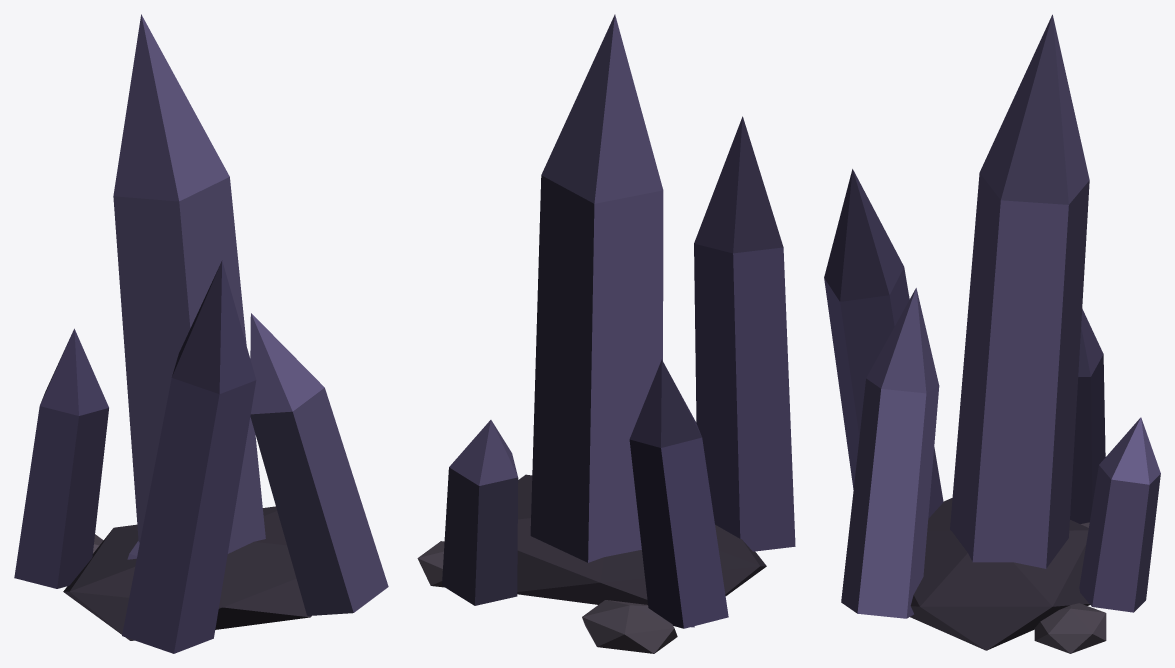
File: Decor_DragonLair_Spires.fbx
3 views of the same model, side by side, from view 1: azimuth 30°, elevation 25°; view 2: azimuth 150°, elevation 25°; view 3: azimuth 270°, elevation 25° (orthographic). The views are drawn at different scales.
Visible parts, largest first — view 1: Spires_Body; view 2: Spires_Body; view 3: Spires_Body.
Boxes of the visible parts, box(x1,y1,x2,y2) form: Spires_Body: box(14, 14, 388, 653); Spires_Body: box(417, 14, 795, 653); Spires_Body: box(824, 14, 1160, 653).
Size of the model in its own units: 16 by 29.68 by 15.91.
